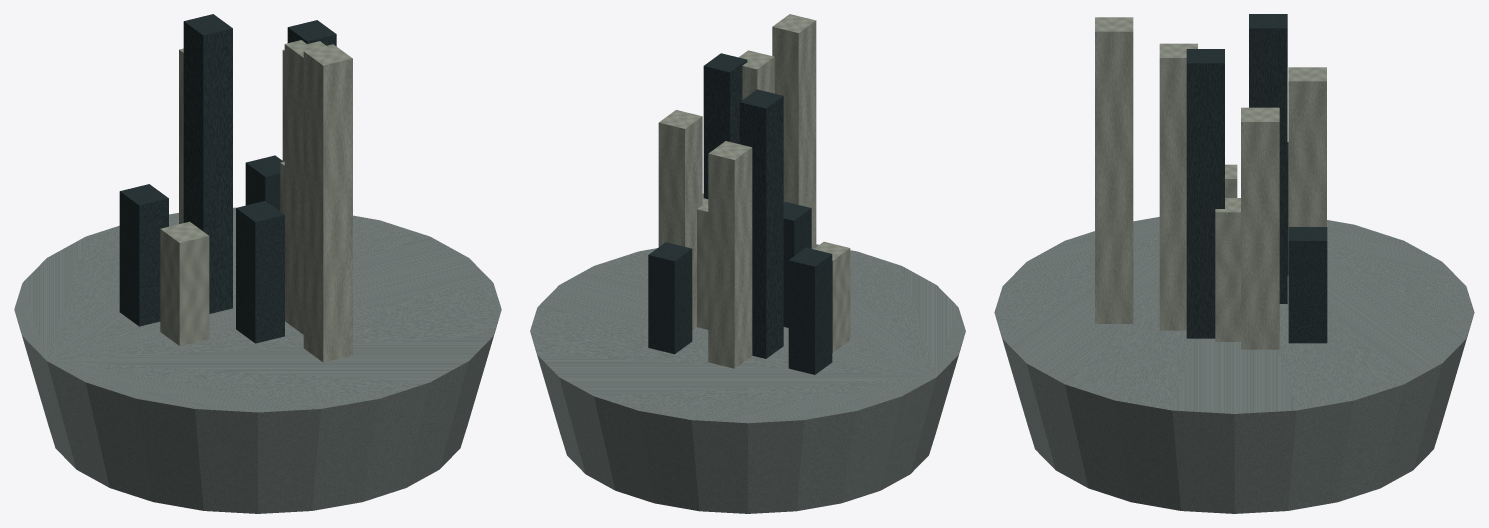
File: crashed_city_disk_01.fbx
3 renders of one model, left to right at view 1: azimuth 30°, elevation 25°; view 2: azimuth 150°, elevation 25°; view 3: azimuth 270°, elevation 25°, orthographic. The views are drawn at different scales.
Visible parts, largest first — view 1: crashed_city_disk_01_LOD0; view 2: crashed_city_disk_01_LOD0; view 3: crashed_city_disk_01_LOD0.
Boxes of the visible parts, left/top/right/bottom form: crashed_city_disk_01_LOD0: left=14, top=14, right=501, bottom=513; crashed_city_disk_01_LOD0: left=530, top=14, right=965, bottom=513; crashed_city_disk_01_LOD0: left=994, top=14, right=1474, bottom=513.
Size of what is drawn, in the model's own units: 1 by 1 by 1.
